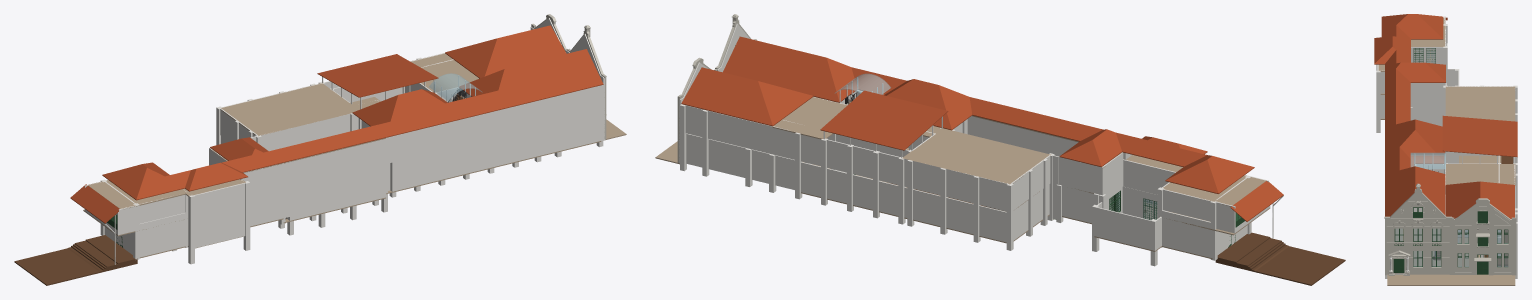
3 renders of one model, left to right at view 1: azimuth 30°, elevation 25°; view 2: azimuth 150°, elevation 25°; view 3: azimuth 270°, elevation 25°, orthographic. The views are drawn at different scales.
Parts seen in each view (by area): view 1: atap, kaca; view 2: atap, kaca; view 3: atap, kaca.
Boxes of the visible parts, x1,y1,x2,y2 form: atap: (14,14,626,285); kaca: (429,73,482,101); atap: (655,14,1345,285); kaca: (835,73,1157,219); atap: (1374,14,1517,285); kaca: (1395,48,1508,266).
Size of the model in its own units: 104 by 20.43 by 24.63.
Materials: 2 (2 with a texture image).
